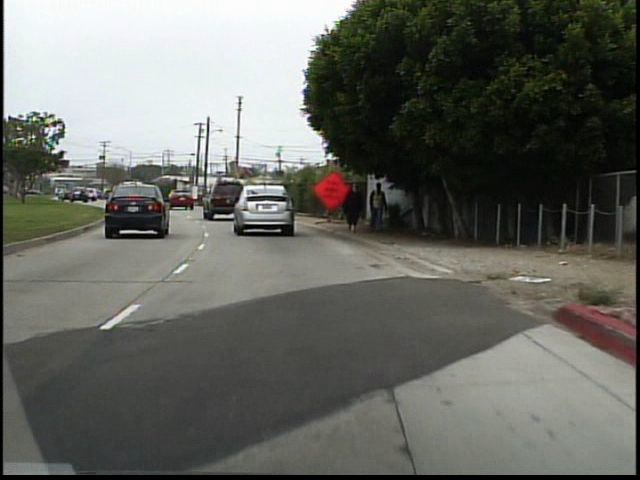person: (337, 177, 367, 238), (364, 181, 388, 238)
